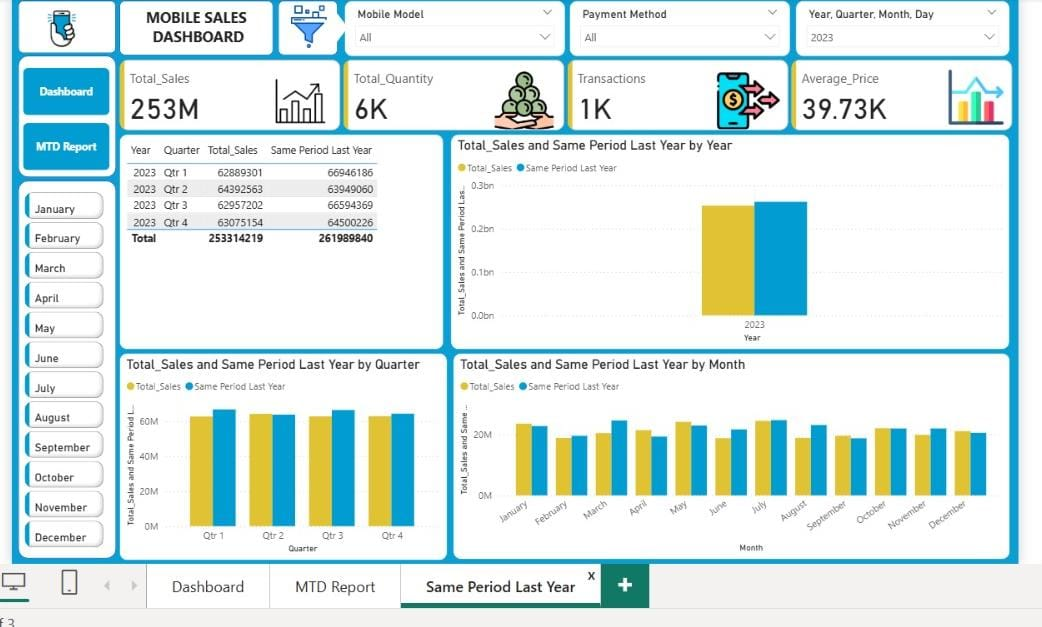

Layout of this report page (visuals, bound fields, positions):
{"tool":"powerbi","page":{"name":"Same Period Last Year","canvas":[1280,720],"ordinal":2},"visuals":[{"type":"shape","box":[7.5,3.8,125,67.5],"z":0},{"type":"image","box":[23.8,3.8,78.8,71.2],"z":1000},{"type":"shape","box":[7.5,73.8,125,155],"z":2000},{"type":"cardVisual","fields":{"Data":["Sales_Data.Total_Sales","Sales_Data.Total_Quantity","Sales_Data.Transactions","Sales_Data.Average_Price"]},"box":[132.5,73.8,1147.5,100],"z":3000},{"type":"slicer","fields":{"Values":["Sales_Data.Mobile Model"]},"box":[423.8,3.8,281.2,71.2],"z":4000},{"type":"slicer","fields":{"Values":["Sales_Data.Payment Method"]},"box":[710,3.8,281.2,71.2],"z":5000},{"type":"slicer","fields":{"Values":["Custom_Calendar.Date.Variation.Date Hierarchy.Year","Custom_Calendar.Date.Variation.Date Hierarchy.Quarter","Custom_Calendar.Date.Variation.Date Hierarchy.Month","Custom_Calendar.Date.Variation.Date Hierarchy.Day"]},"box":[997.5,3.8,272.5,71.2],"z":6000},{"type":"shape","box":[338.8,3.8,76.2,70],"z":7000},{"type":"image","box":[337.5,3.8,81.2,66.2],"z":8000},{"type":"shape","box":[397.5,17.5,30,40],"z":9000},{"type":"shape","box":[137.5,3.8,196.2,70],"z":10000},{"type":"textbox","box":[156.2,6.2,162.5,63.8],"z":11000},{"type":"shape","box":[7.5,232.5,125,481.2],"z":12000},{"type":"advancedSlicerVisual","fields":{"Values":["Custom_Calendar.Date.Variation.Date Hierarchy.Month"]},"box":[11.2,241.2,110,472.5],"z":13000},{"type":"tableEx","fields":{"Values":["Custom_Calendar.Date.Variation.Date Hierarchy.Year","Custom_Calendar.Date.Variation.Date Hierarchy.Quarter","Sales_Data.Total_Sales","Sales_Data.Same Period Last Year"]},"box":[137.5,173.8,412.5,273.8],"z":14000},{"type":"clusteredColumnChart","fields":{"Category":["Custom_Calendar.Date.Variation.Date Hierarchy.Year","Custom_Calendar.Date.Variation.Date Hierarchy.Quarter"],"Y":["Sales_Data.Total_Sales","Sales_Data.Same Period Last Year"]},"box":[558.8,173.8,711.2,273.8],"z":15000},{"type":"clusteredColumnChart","fields":{"Y":["Sales_Data.Total_Sales","Sales_Data.Same Period Last Year"],"Category":["Custom_Calendar.Date.Variation.Date Hierarchy.Year","Custom_Calendar.Date.Variation.Date Hierarchy.Quarter","Custom_Calendar.Date.Variation.Date Hierarchy.Month","Custom_Calendar.Date.Variation.Date Hierarchy.Day"]},"box":[561.2,452.5,708.8,262.5],"z":16000},{"type":"clusteredColumnChart","fields":{"Category":["Custom_Calendar.Date.Variation.Date Hierarchy.Year","Custom_Calendar.Date.Variation.Date Hierarchy.Quarter"],"Y":["Sales_Data.Total_Sales","Sales_Data.Same Period Last Year"]},"box":[136.2,451.2,417.5,263.8],"z":17000},{"type":"pageNavigator","box":[15,88.8,110,130],"z":18000}]}

Visuals, with their boxes on the page's 1280x720 design canvas (x1, y1, x2, y2). These are canvas units, not pixel positions in the 1042x627 screenshot, which may show the page scaled, cropped or inside an application window:
shape: region(8, 4, 132, 71)
image: region(24, 4, 103, 75)
shape: region(8, 74, 132, 229)
cardVisual - Sales_Data.Total_Sales x Sales_Data.Total_Quantity: region(132, 74, 1280, 174)
slicer - Sales_Data.Mobile Model: region(424, 4, 705, 75)
slicer - Sales_Data.Payment Method: region(710, 4, 991, 75)
slicer - Custom_Calendar.Date.Variation.Date Hierarchy.Year x Custom_Calendar.Date.Variation.Date Hierarchy.Quarter: region(998, 4, 1270, 75)
shape: region(339, 4, 415, 74)
image: region(338, 4, 419, 70)
shape: region(398, 18, 428, 58)
shape: region(138, 4, 334, 74)
textbox: region(156, 6, 319, 70)
shape: region(8, 232, 132, 714)
advancedSlicerVisual - Custom_Calendar.Date.Variation.Date Hierarchy.Month: region(11, 241, 121, 714)
tableEx - Custom_Calendar.Date.Variation.Date Hierarchy.Year x Custom_Calendar.Date.Variation.Date Hierarchy.Quarter: region(138, 174, 550, 448)
clusteredColumnChart - Custom_Calendar.Date.Variation.Date Hierarchy.Year x Custom_Calendar.Date.Variation.Date Hierarchy.Quarter: region(559, 174, 1270, 448)
clusteredColumnChart - Sales_Data.Total_Sales x Sales_Data.Same Period Last Year: region(561, 452, 1270, 715)
clusteredColumnChart - Custom_Calendar.Date.Variation.Date Hierarchy.Year x Custom_Calendar.Date.Variation.Date Hierarchy.Quarter: region(136, 451, 554, 715)
pageNavigator: region(15, 89, 125, 219)
